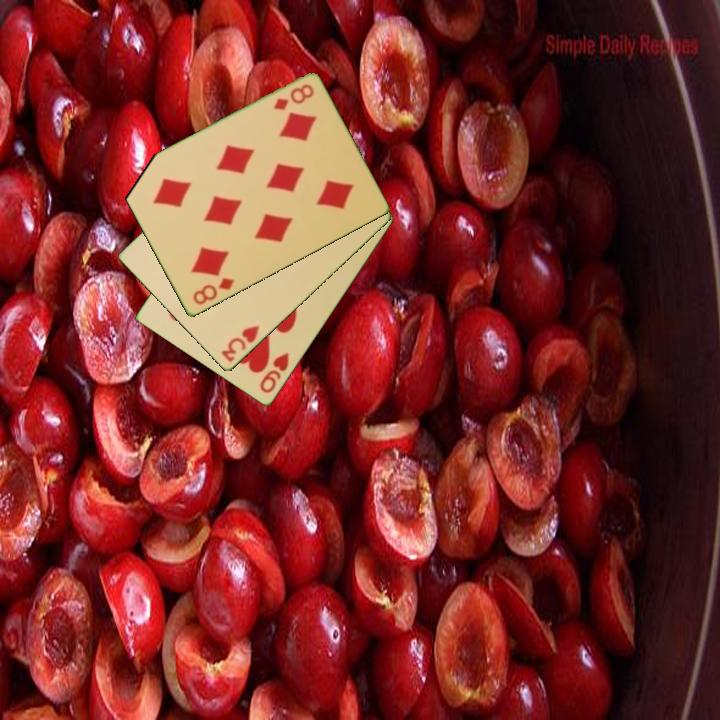3h: (217, 322, 262, 365)
8d: (189, 274, 237, 308), (270, 81, 317, 114)
9h: (256, 349, 292, 397)
